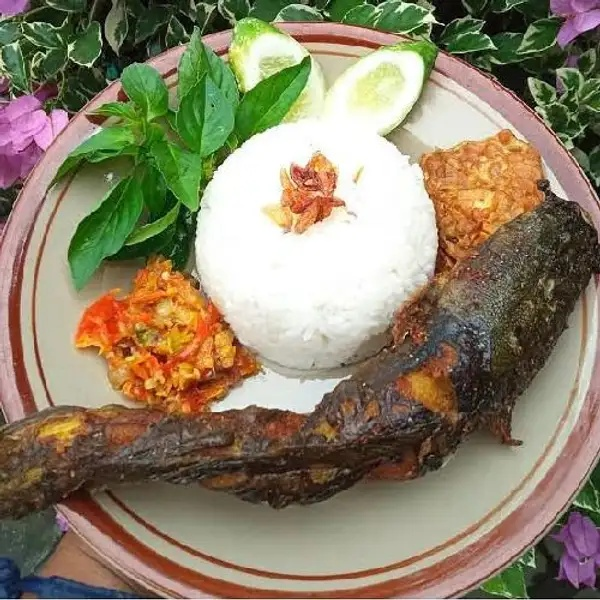pecel_lele: (4, 396, 453, 512)
